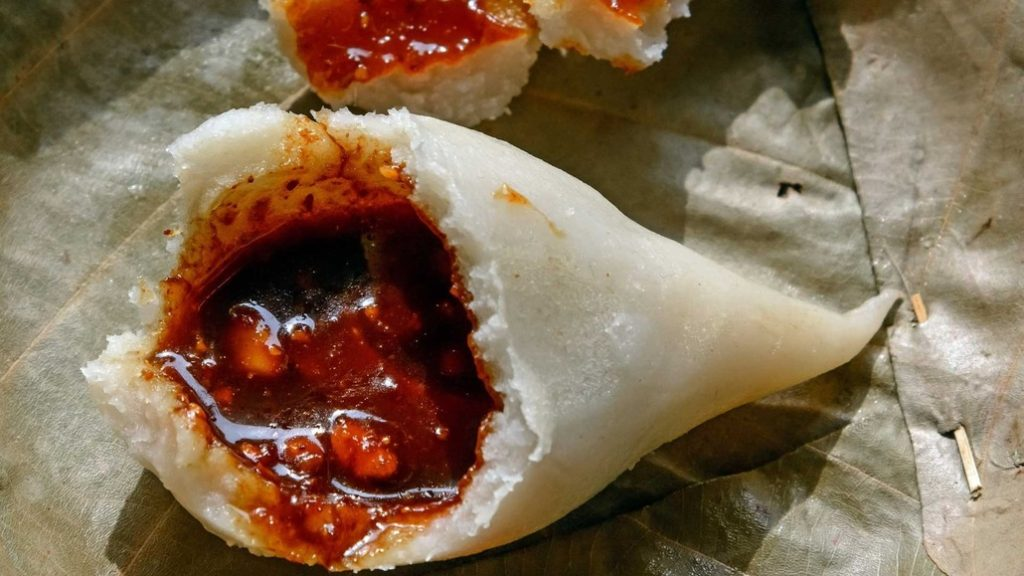yomari: (146, 105, 899, 561)
